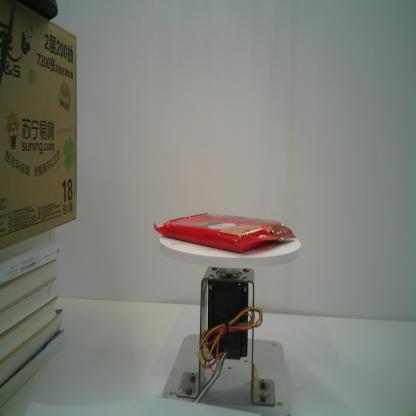Dessert: (154, 212, 298, 254)
